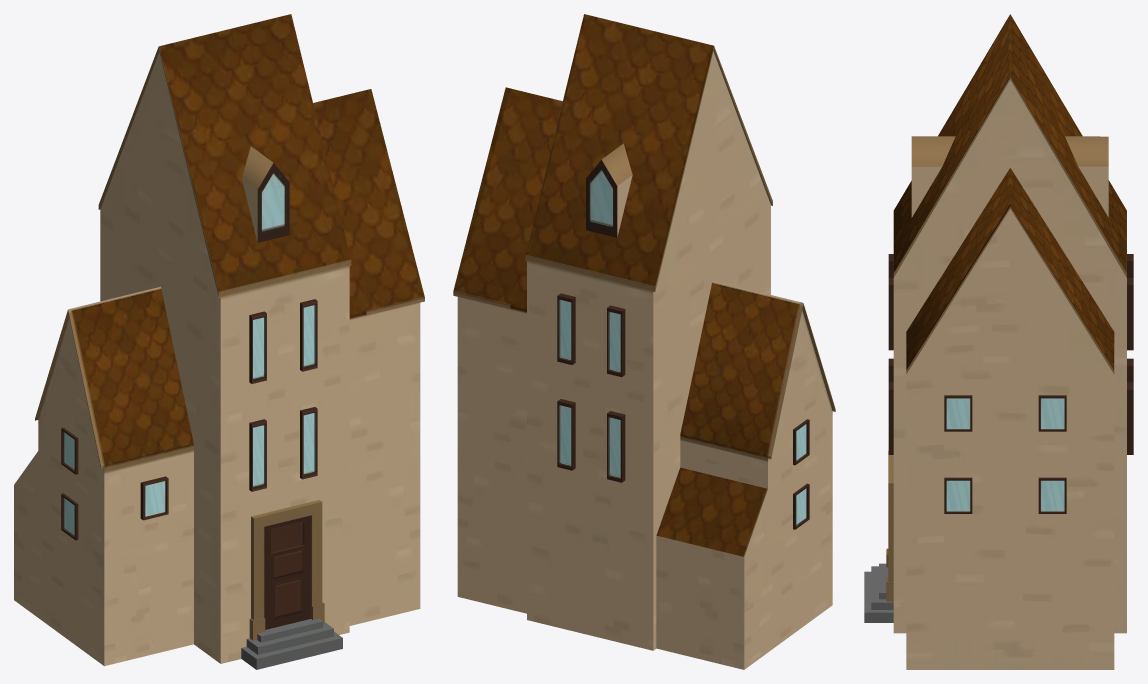
Rendered from french_tallhouse_02.glb.
3 renders of one model, left to right at view 1: azimuth 30°, elevation 25°; view 2: azimuth 150°, elevation 25°; view 3: azimuth 270°, elevation 25°, orthographic. The views are drawn at different scales.
Parts seen in each view (by area): view 1: tallhouse_02; view 2: tallhouse_02; view 3: tallhouse_02.
Boxes of the visible parts, x1,y1,x2,y2 form: tallhouse_02: [14, 14, 424, 669]; tallhouse_02: [453, 14, 835, 669]; tallhouse_02: [864, 14, 1133, 669].
Size of the model in its own units: 6.94 by 12.54 by 5.5.
Materials: 1 (1 with a texture image).
